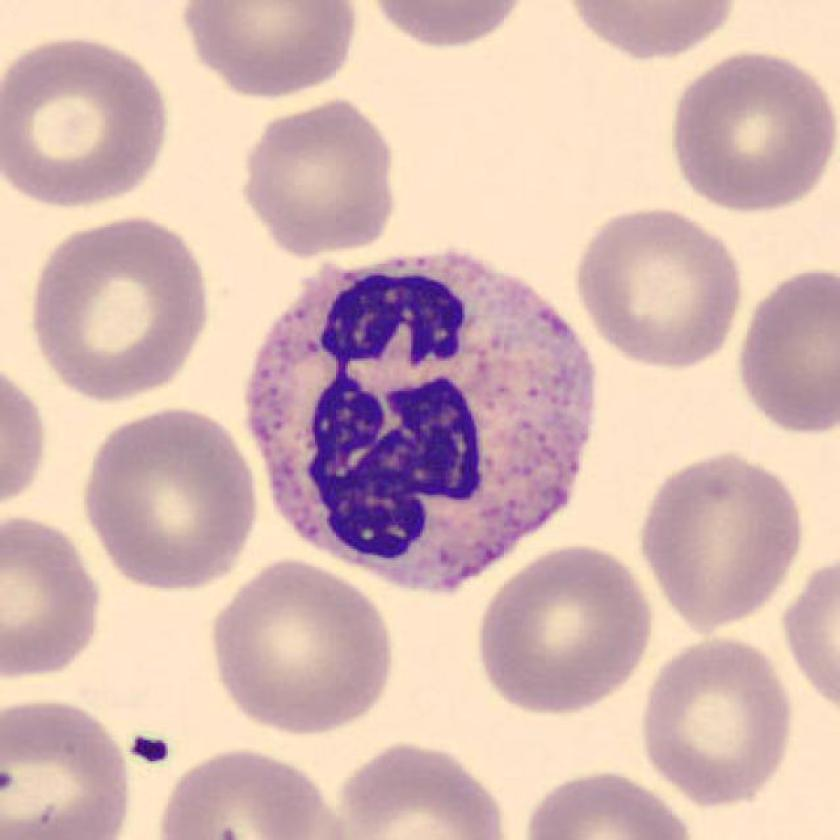neutrophil: (248, 250, 592, 589)
